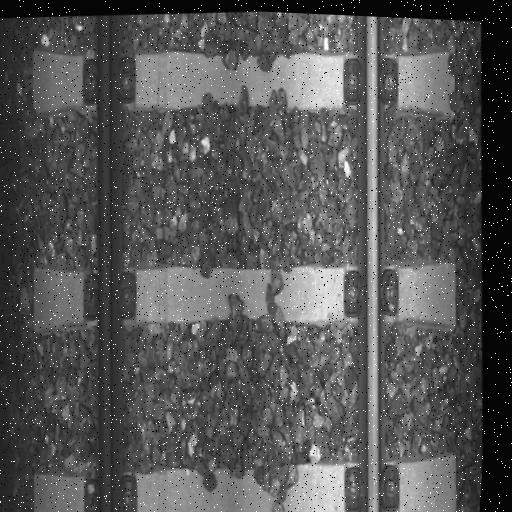clip: (77, 53, 137, 111), (340, 268, 401, 322), (80, 271, 138, 324), (341, 56, 400, 107), (340, 464, 402, 512), (78, 473, 138, 512)
sleeper: (27, 237, 461, 351), (27, 23, 459, 133), (28, 433, 461, 512)
